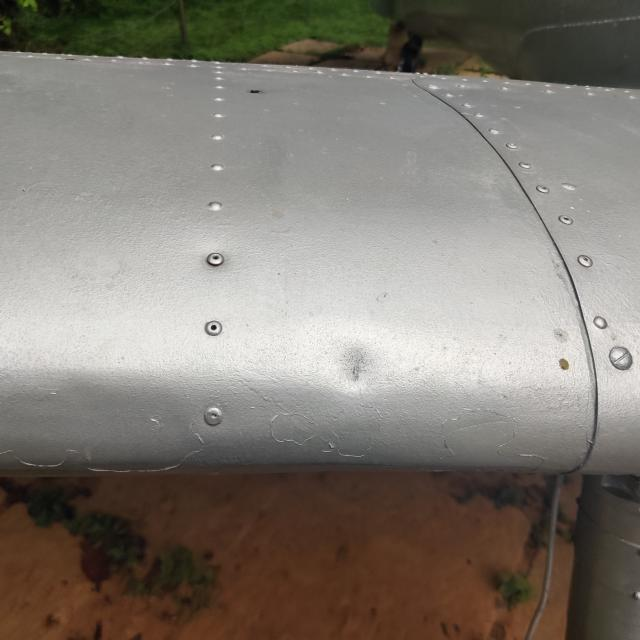dent: (303, 318, 403, 416)
